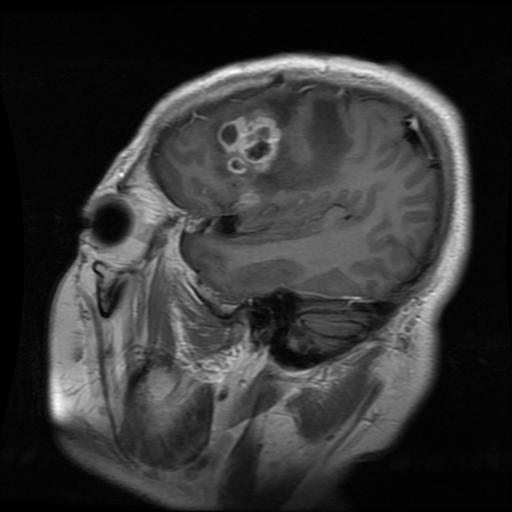Gliomia_tumour: (212, 90, 353, 191)
